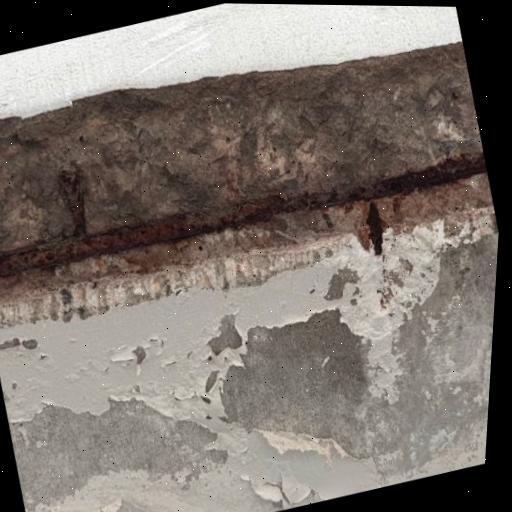exposed_rebar: (0, 154, 487, 276)
spalling: (0, 42, 496, 326)
